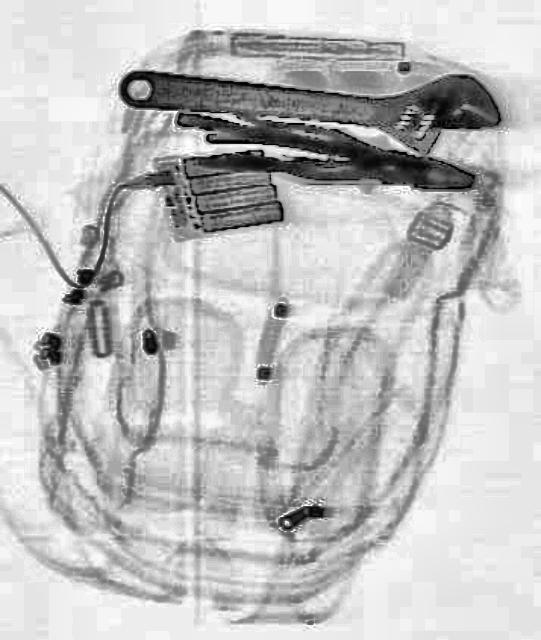Pliers: (200, 102, 476, 208)
Wrench: (116, 42, 504, 160)
